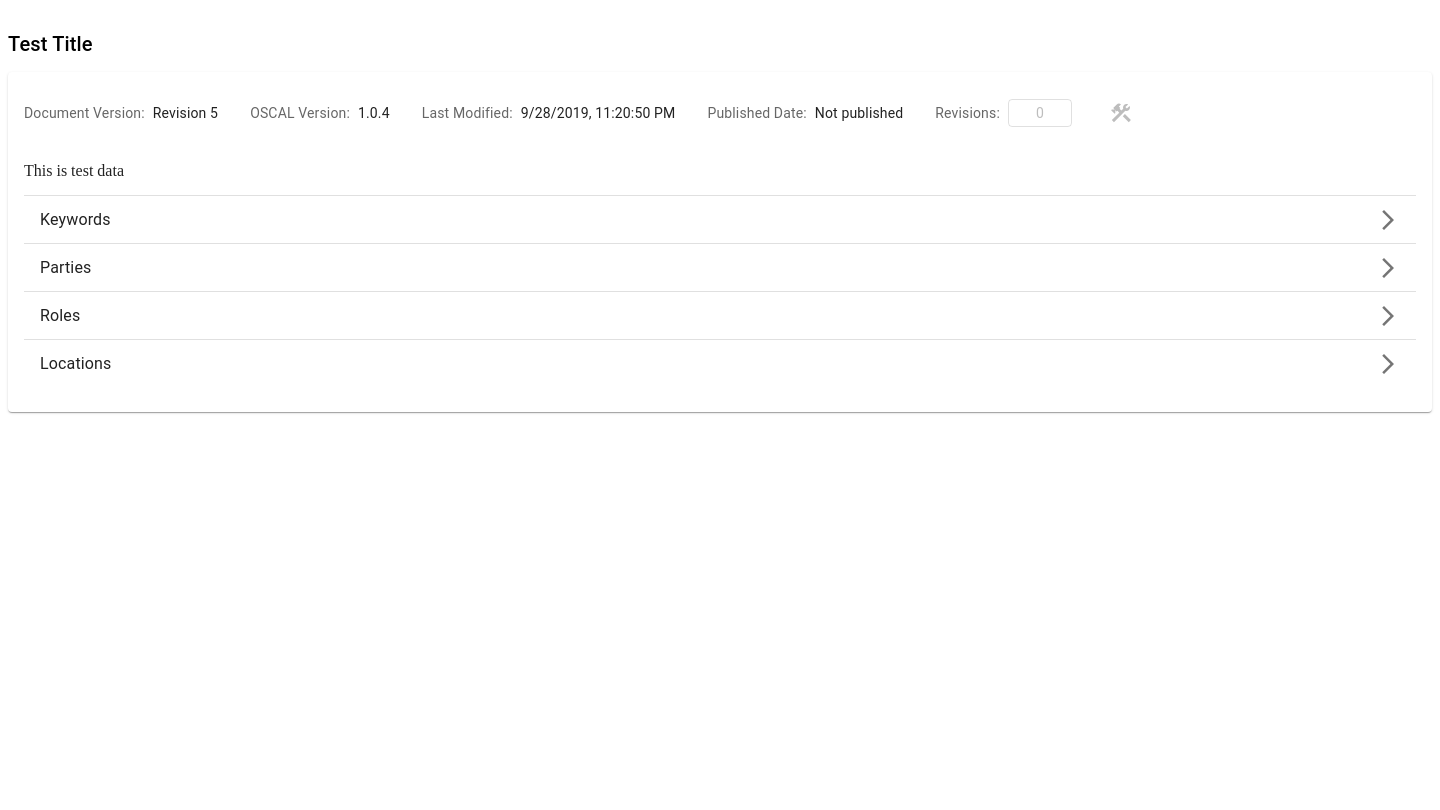
Test case: OSCAL metadata parties › displays email contact info
Click the button "Parties" at (66, 268), box left=40, top=256, right=1400, bottom=280
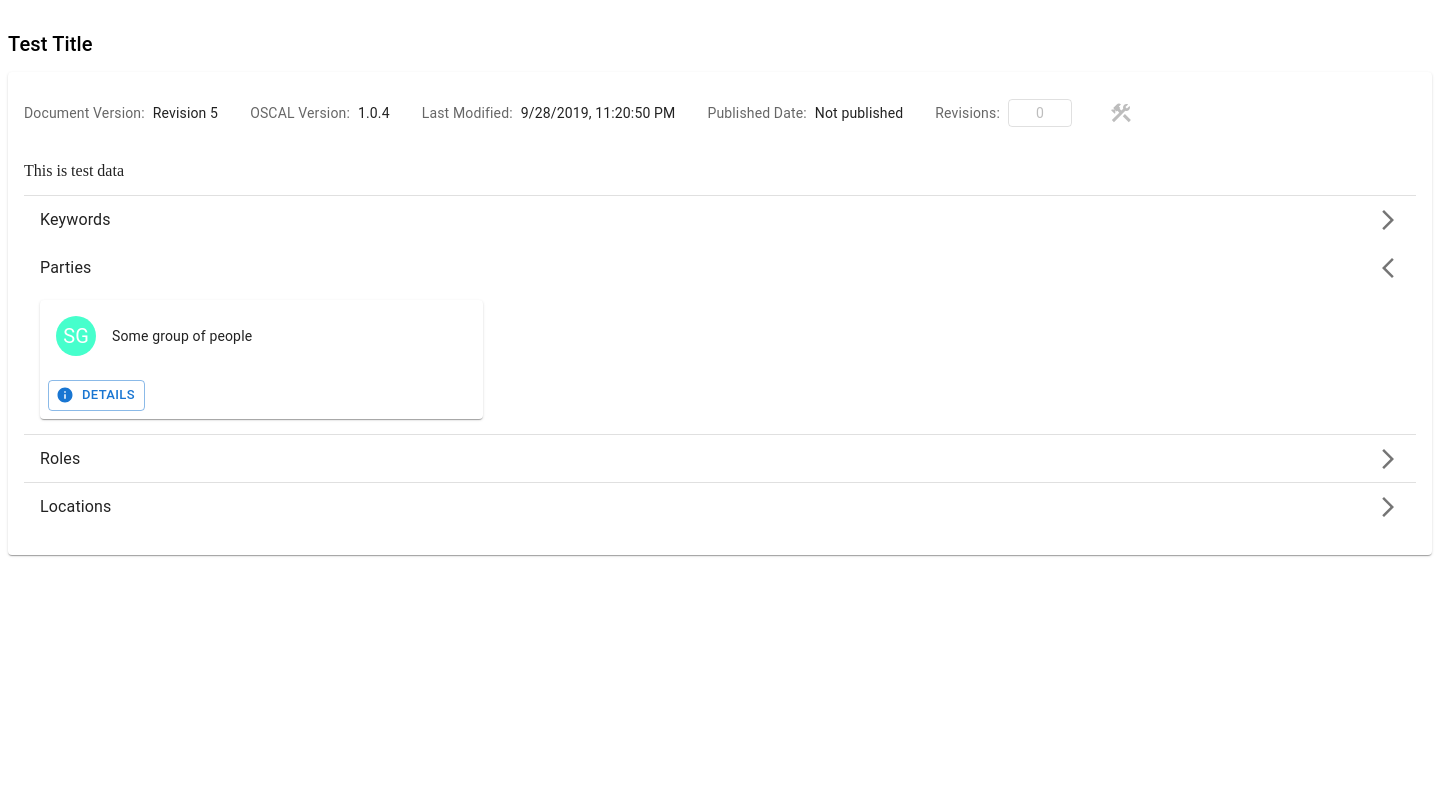
Click the button with aria-label "some group of people details button" at (96, 395), box left=48, top=380, right=145, bottom=411
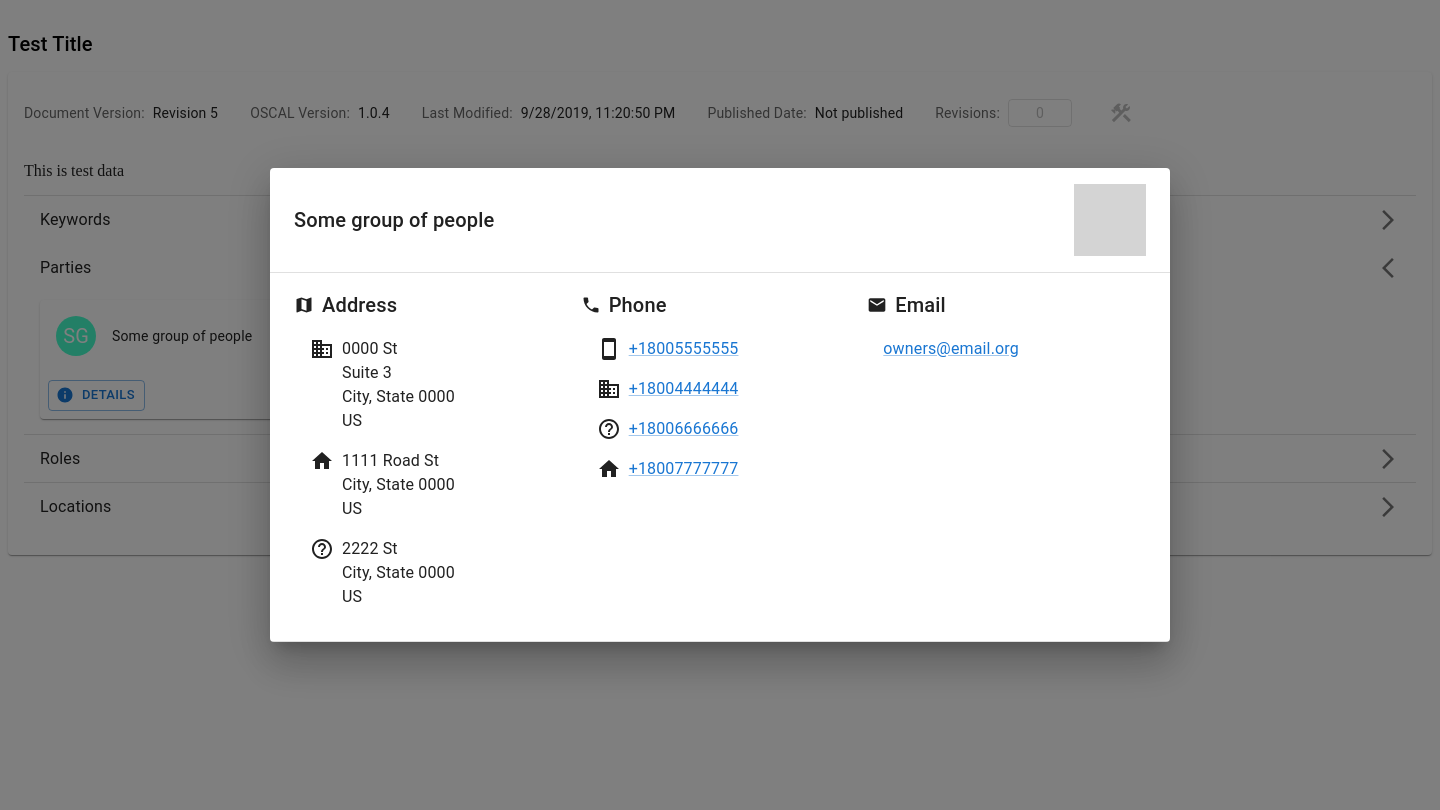
Expected: the heading "Email" is shown, left=895, top=289, right=946, bottom=321
Expected: the link "owners@email.org" is shown, left=883, top=339, right=1019, bottom=358
